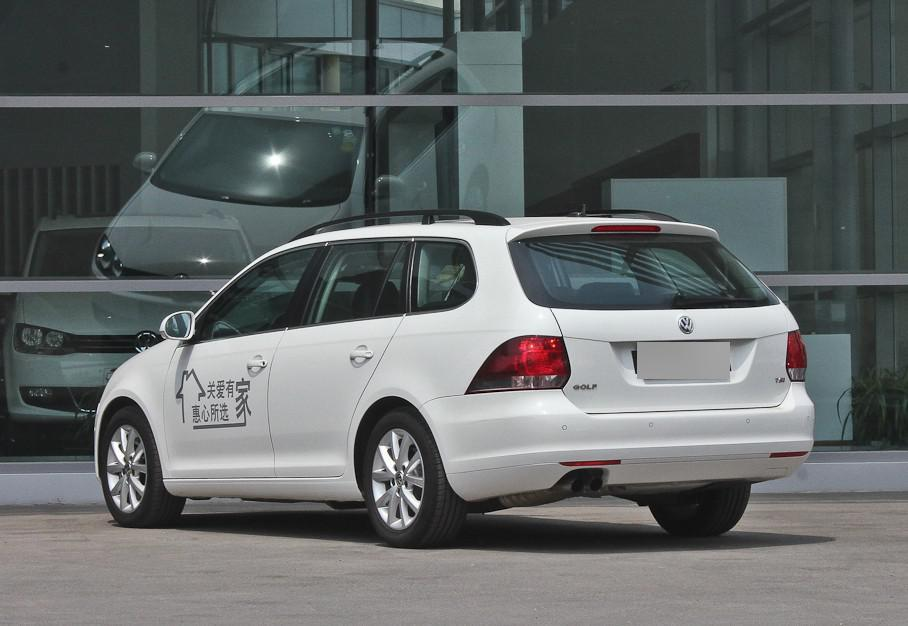Wagon: (90, 201, 816, 550)
